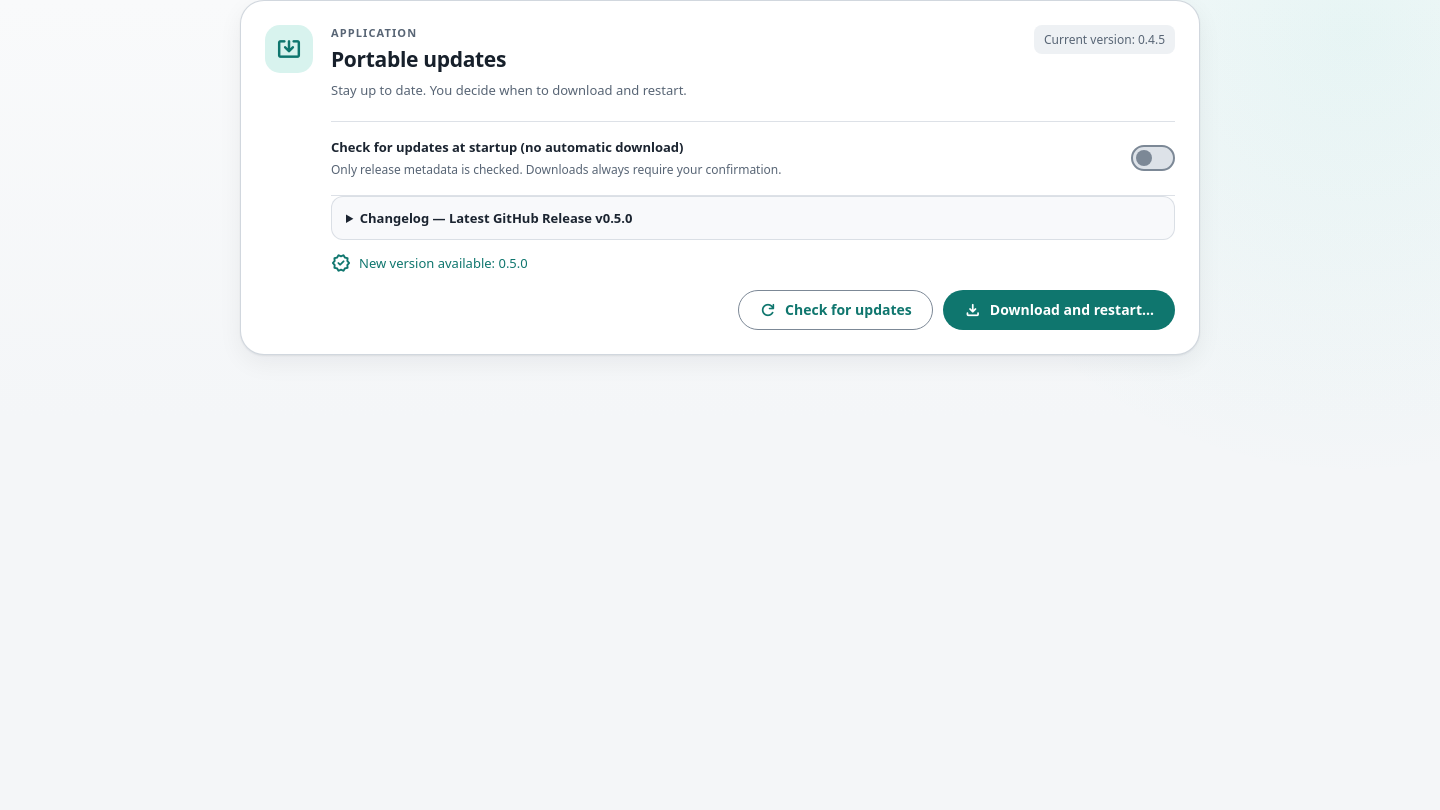
Test: requires the explicit dialog confirmation and supports declining without download
Click the button "Download and restart…" at (1059, 310), box [943,290,1175,330]
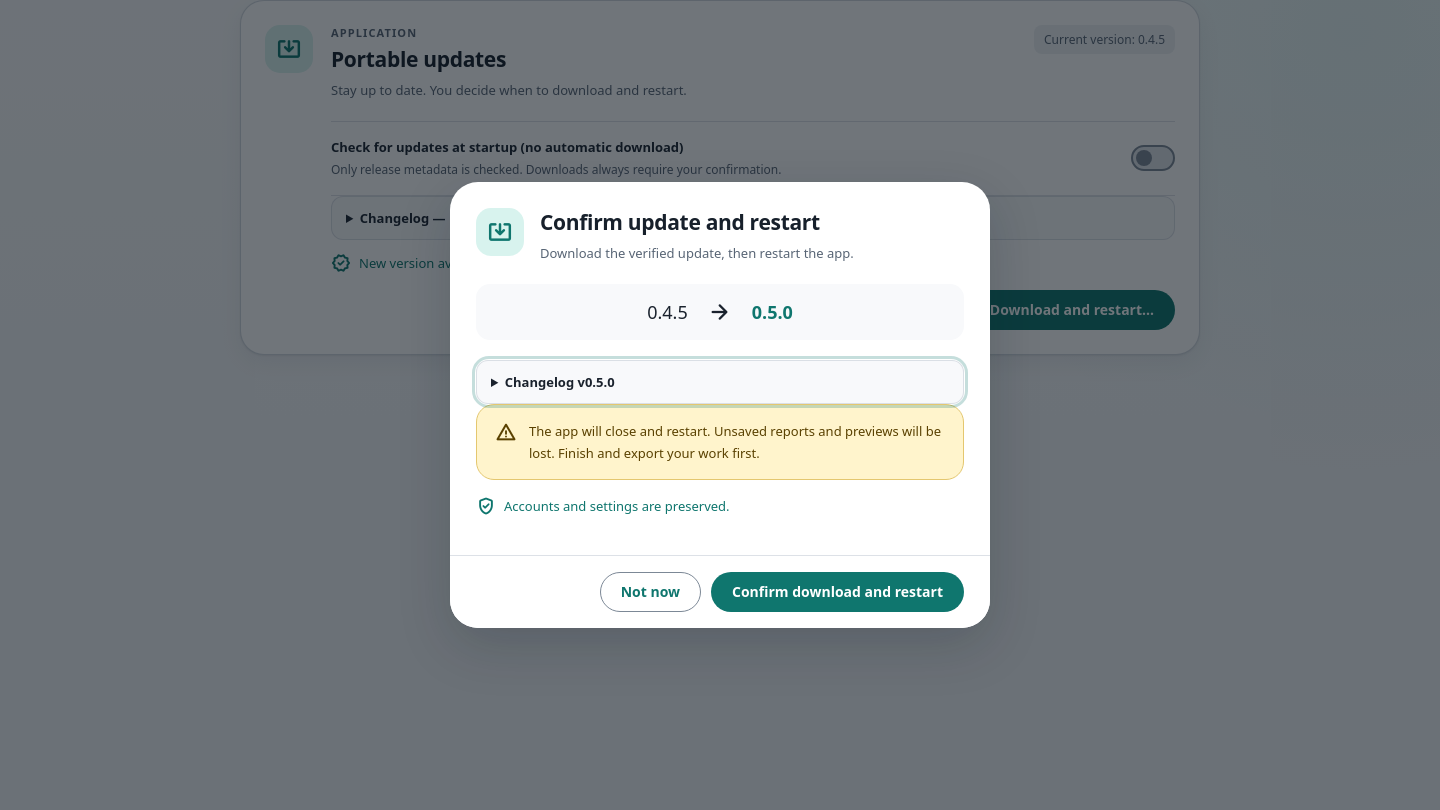
Now the dialog shows "Unsaved reports and previews will be lost", box [529,422,941,462]
Now the dialog shows "Accounts and settings are preserved", box [504,497,730,515]
Click the button "Not now" at (650, 592), box [600,572,701,612]
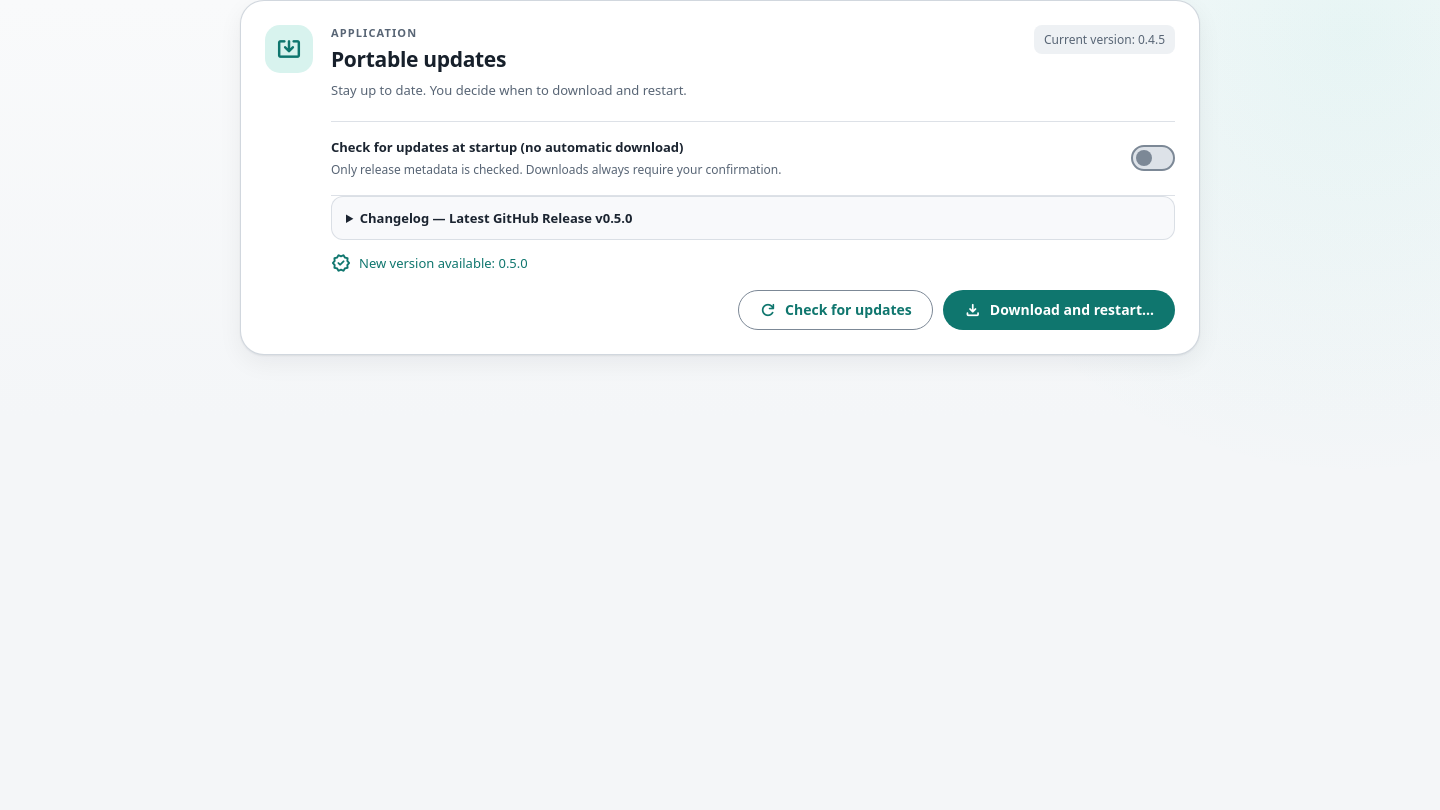
Now the dialog is gone
